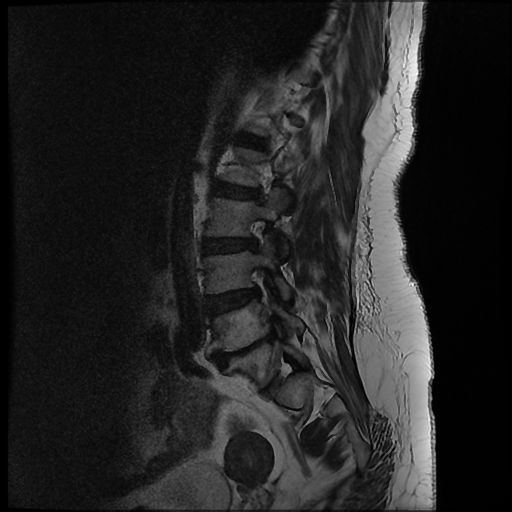RFS0: (239, 213, 274, 259)
